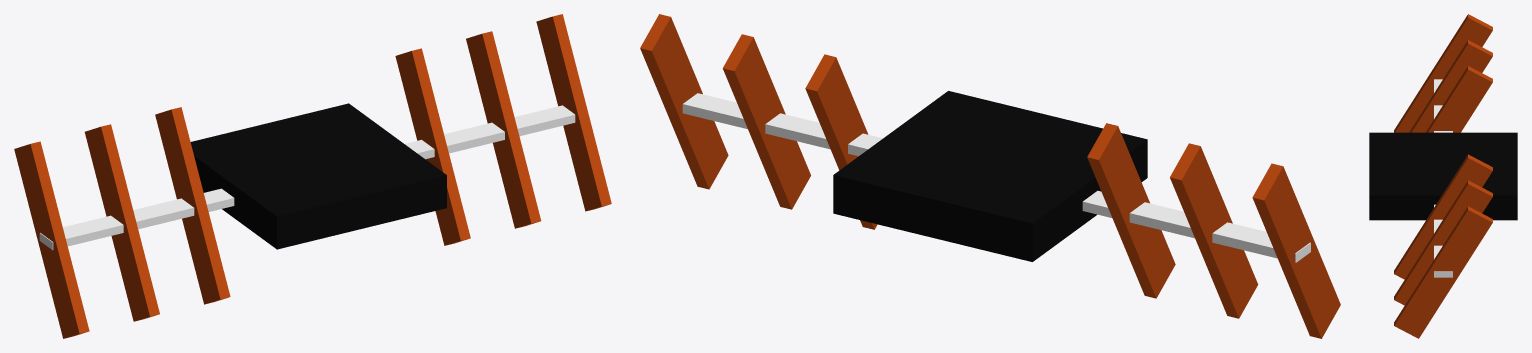
Rendered from Estacioninternacional.obj.
3 renders of one model, left to right at view 1: azimuth 30°, elevation 25°; view 2: azimuth 150°, elevation 25°; view 3: azimuth 270°, elevation 25°, orthographic. The views are drawn at different scales.
Parts seen in each view (by area): view 1: Cube.001; view 2: Cube.001; view 3: Cube.001.
Part boxes in pixels (x1,y1,x2,y2): Cube.001: [14, 14, 611, 338]; Cube.001: [640, 14, 1340, 338]; Cube.001: [1369, 14, 1517, 338].
Bounding box in the file's own units: 6.28 × 1.92 × 2.
